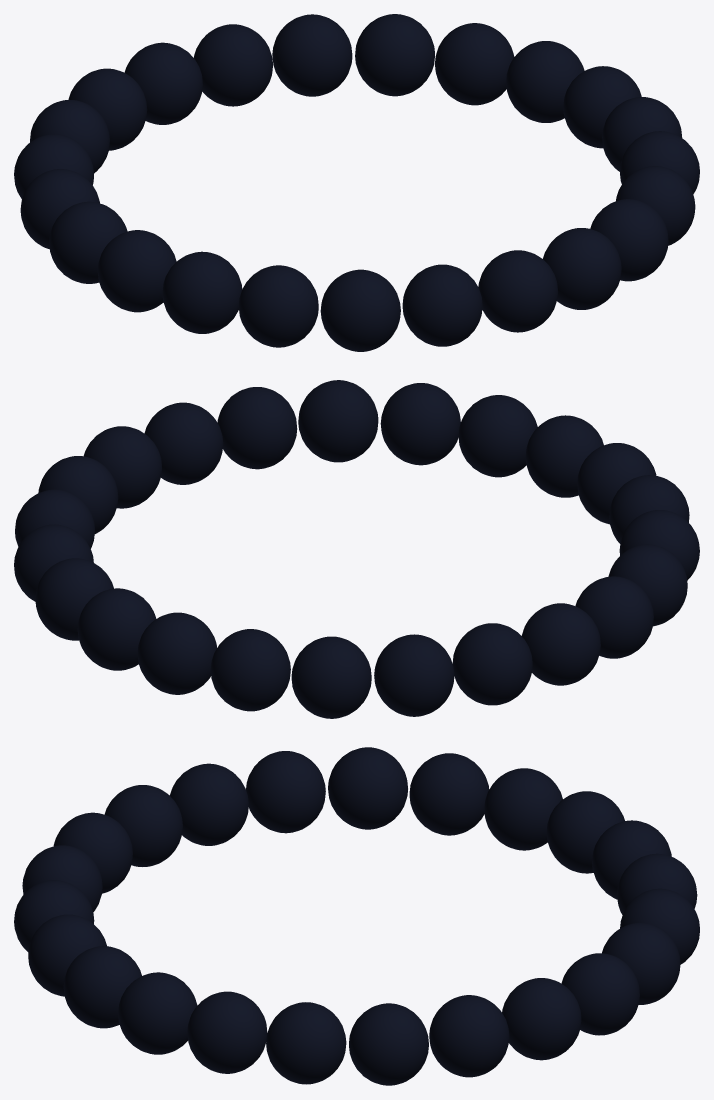
3 renders of one model, top to bottom at view 1: azimuth 30°, elevation 25°; view 2: azimuth 150°, elevation 25°; view 3: azimuth 270°, elevation 25°, orthographic.
Visible parts, largest first — view 1: Sphere_9; view 2: Sphere_9; view 3: Sphere_9.
Part boxes in pixels (box(x1,y1,x2,y2)): Sphere_9: box(14, 14, 699, 351); Sphere_9: box(14, 380, 699, 718); Sphere_9: box(14, 747, 699, 1085).
Bounding box in the file's own units: 58.71 × 58.71 × 7.11.
